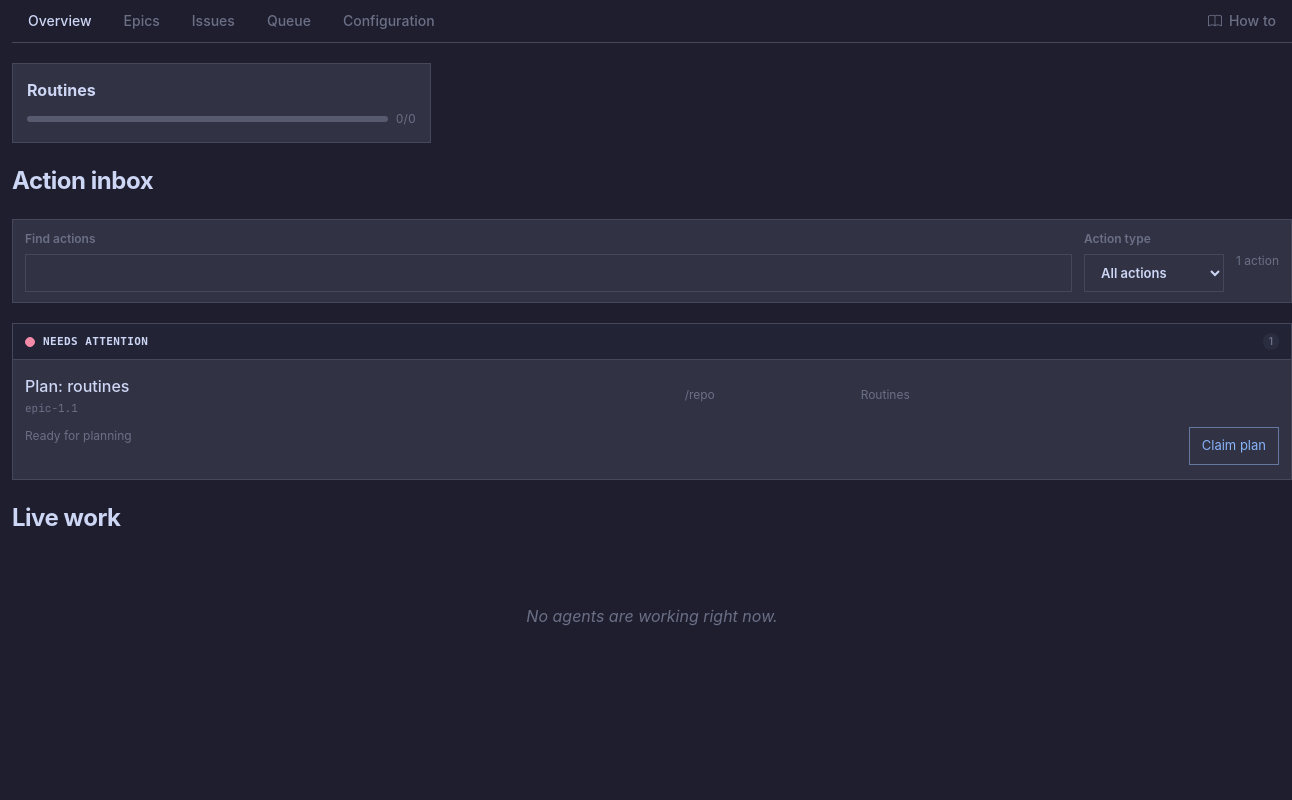
it: Factory interactions › refreshes planning work after a failed claim
This screenshot has width=1292, height=800.
Click the button "Claim plan" at [1234, 446], box [1189, 427, 1279, 465]
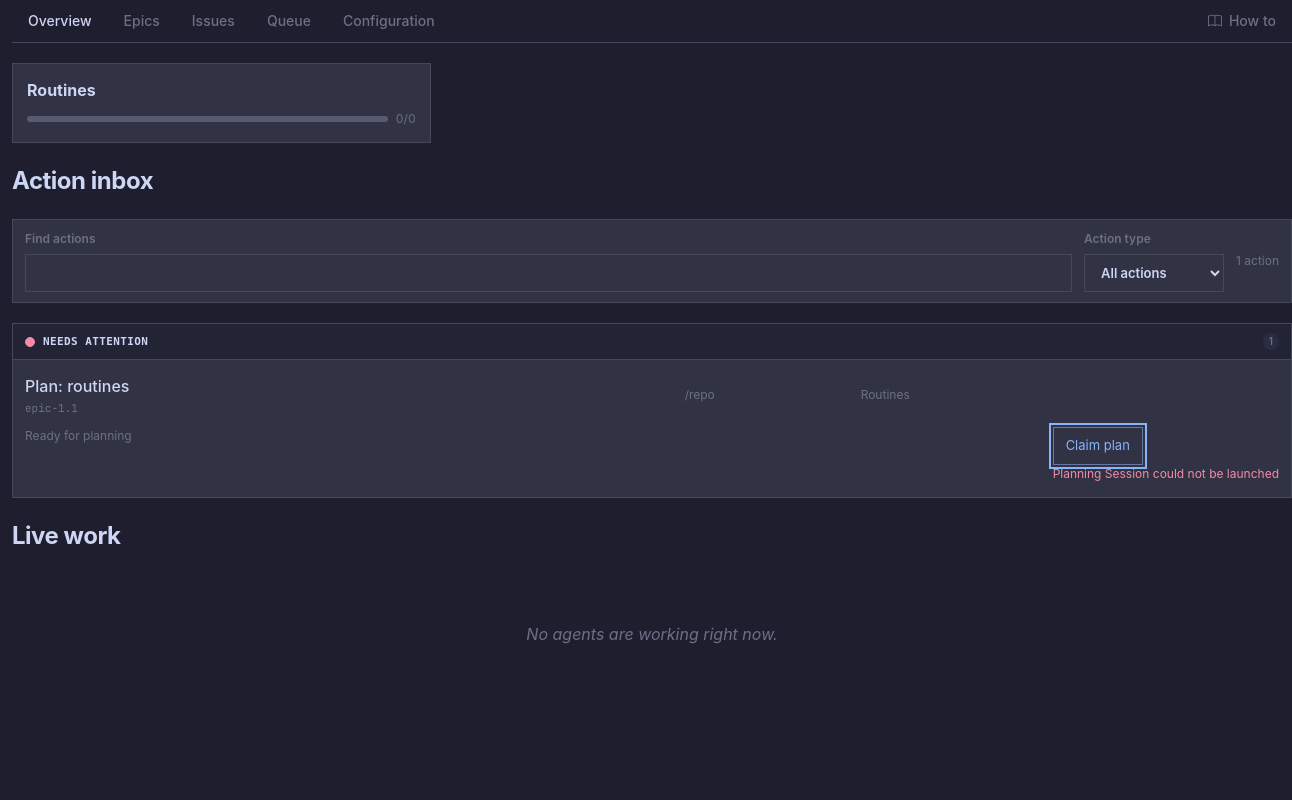
Result: the message reads "Planning Session could not be launched" at [1053, 466, 1279, 481]
